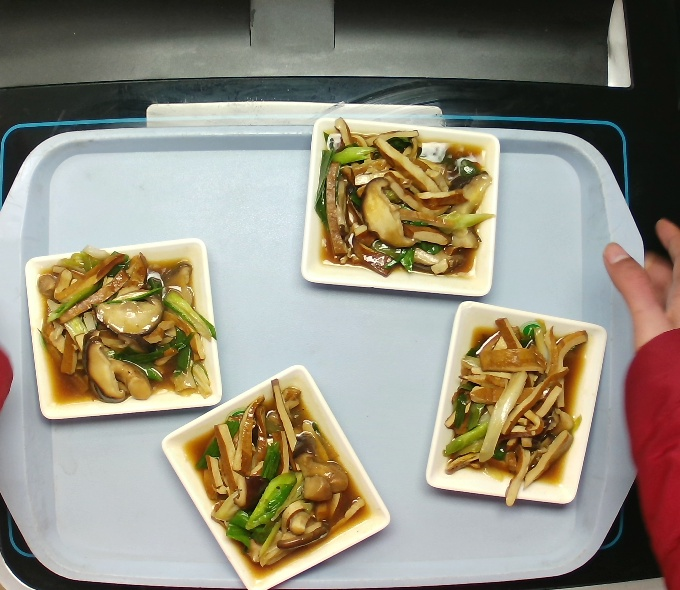wcq-XiangGuChaoXiangGan: (188, 378, 367, 574), (314, 123, 489, 278), (38, 250, 206, 404), (443, 317, 589, 486)
